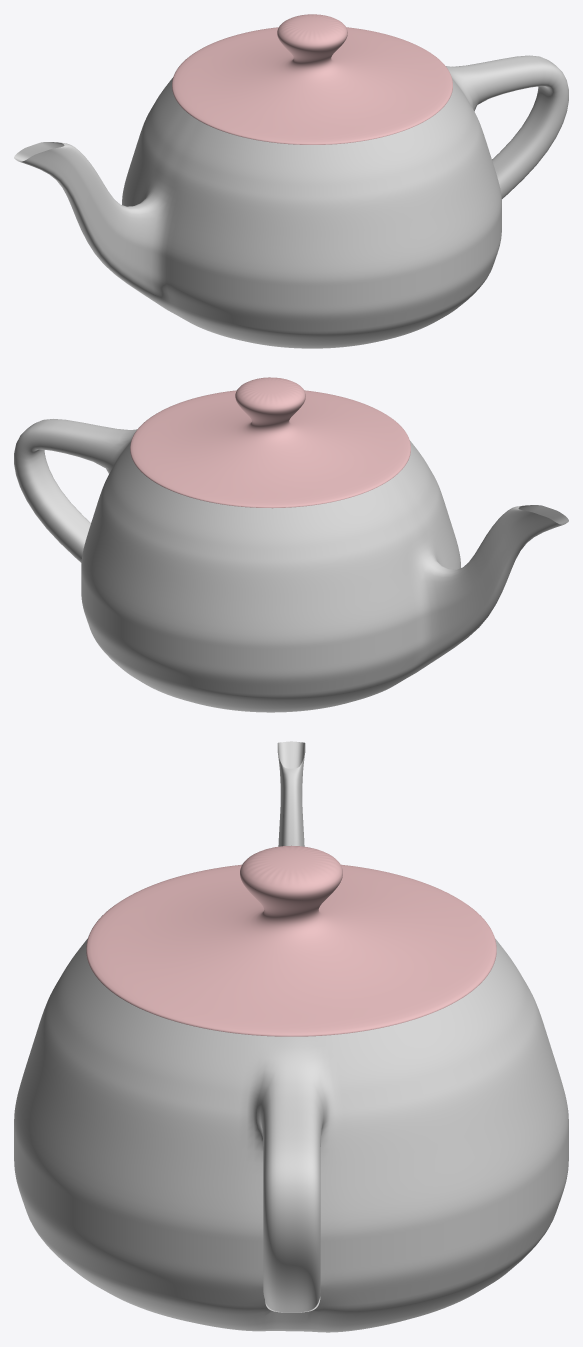
Rendered from utahTeapot.glb.
3 views of the same model, one above another, from view 1: azimuth 30°, elevation 25°; view 2: azimuth 150°, elevation 25°; view 3: azimuth 270°, elevation 25° (orthographic). The views are drawn at different scales.
Visible parts, largest first — view 1: Circle.001_3; view 2: Circle.001_3; view 3: Circle.001_3.
Part boxes in pixels (box(x1,y1,x2,y2)): Circle.001_3: box(14, 14, 568, 348); Circle.001_3: box(14, 377, 568, 712); Circle.001_3: box(14, 741, 568, 1332).
Bounding box in the file's own units: 11 × 5.25 × 6.62.
